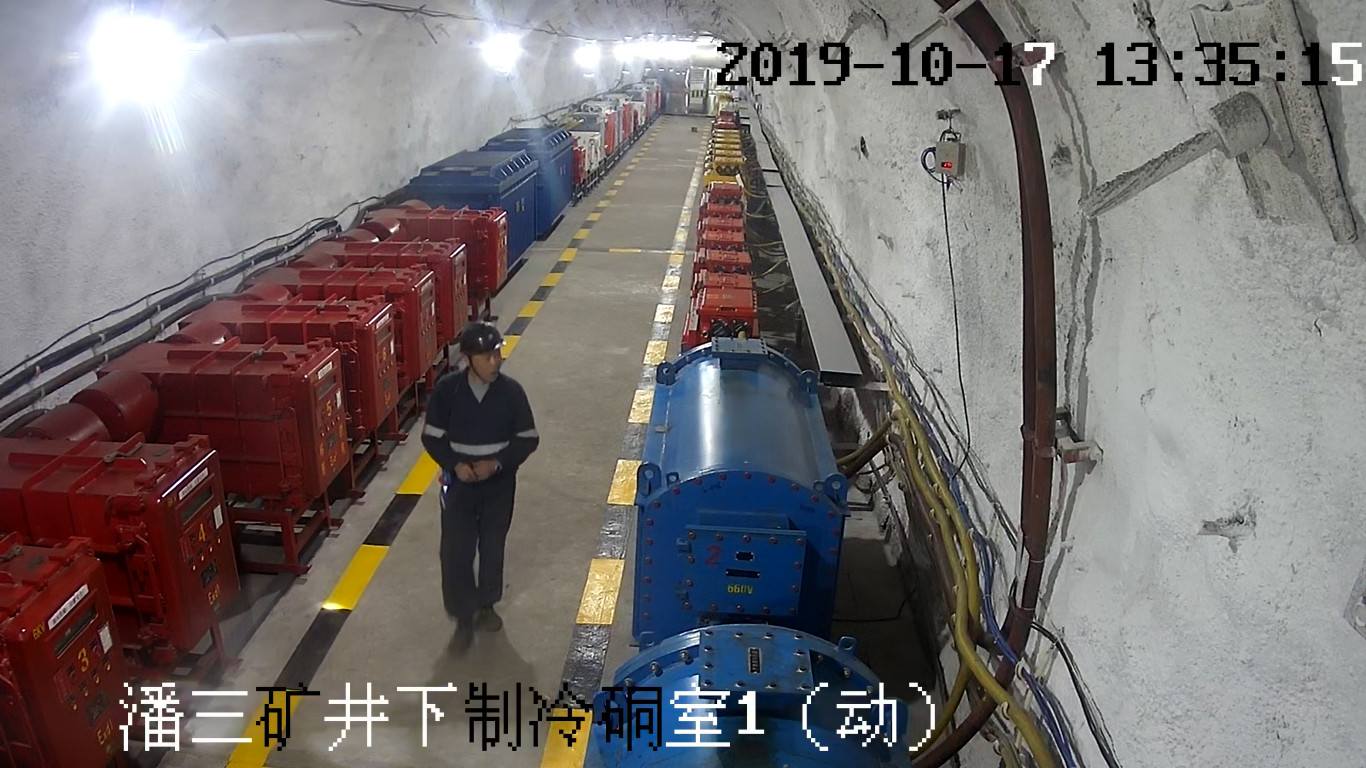helmet: (459, 320, 507, 353)
